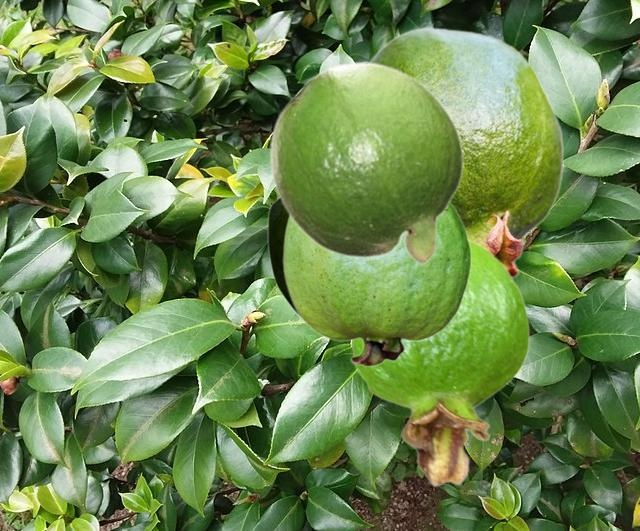guava: (368, 27, 563, 278), (351, 239, 529, 486), (268, 61, 463, 265), (282, 203, 471, 366), (267, 197, 297, 315)
